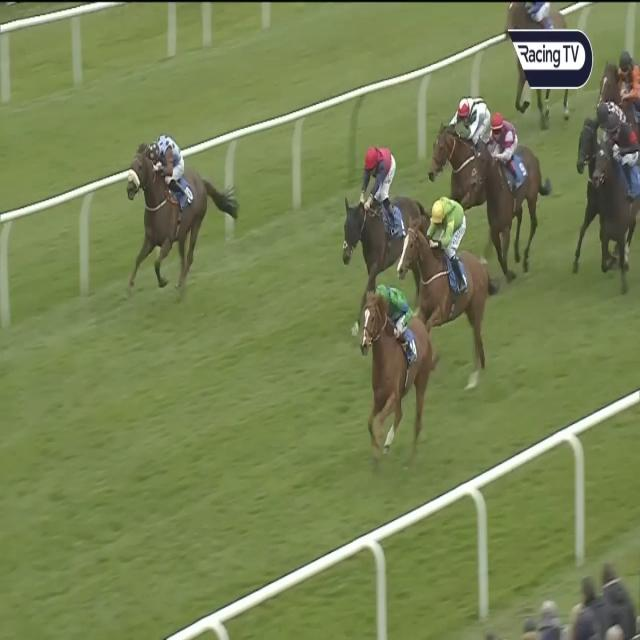horses-racing: (361, 284, 434, 468), (128, 135, 218, 281), (340, 142, 422, 278), (476, 111, 542, 259), (401, 190, 474, 320), (429, 92, 495, 210), (506, 0, 575, 107), (597, 109, 640, 275), (575, 95, 624, 183), (602, 49, 640, 110)
